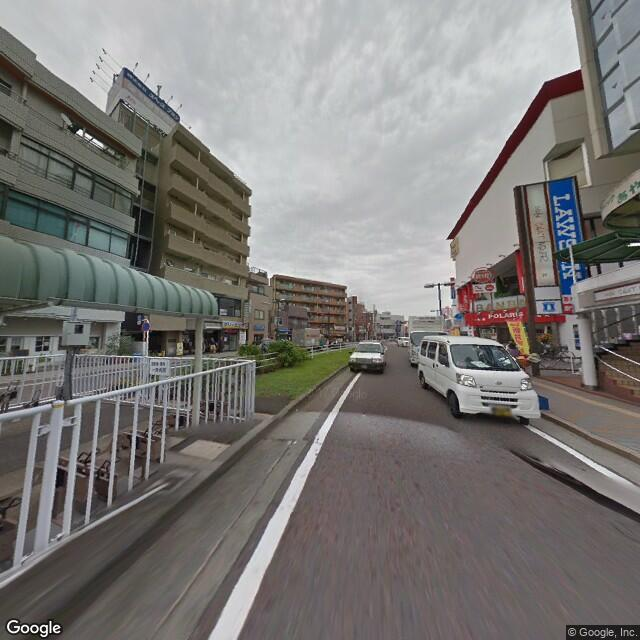lawson: (548, 173, 584, 295), (540, 296, 559, 317)
